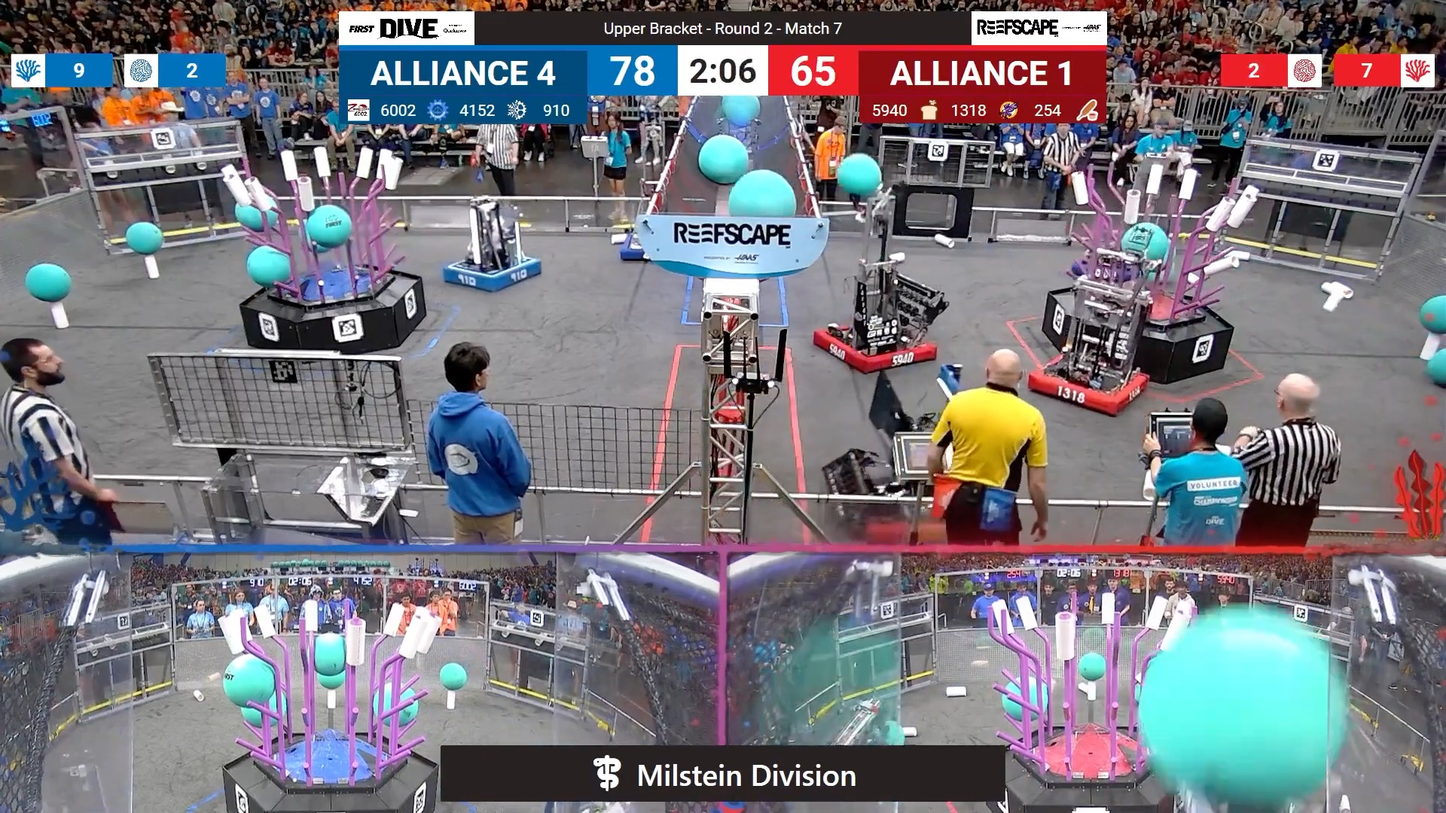bumpers: (1023, 353, 1159, 421), (843, 471, 957, 544), (806, 320, 945, 378), (432, 256, 548, 296), (613, 238, 669, 265)
